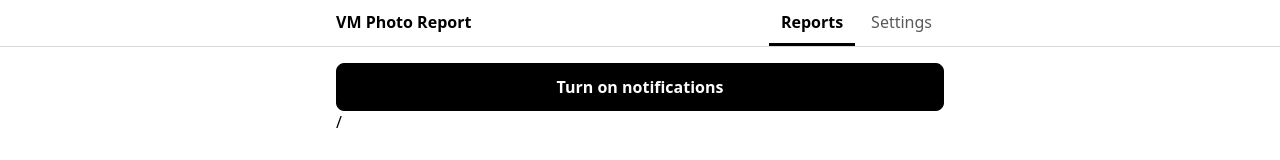
Layout banner › the user says no: the button goes away without a message
What coordinates should you click on to do the following:
click the button "Turn on notifications"
I would click on:
 (640, 87)
Its box is [336,63,944,111].
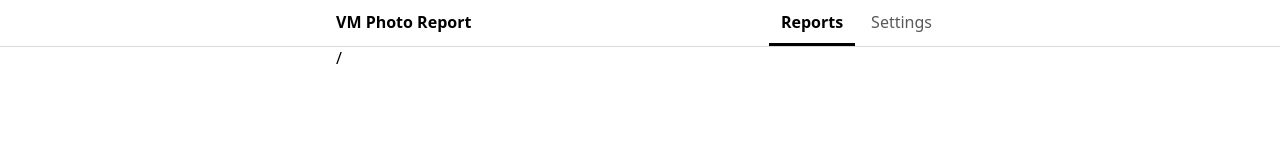
Expected: the button "Turn on notifications" is gone
